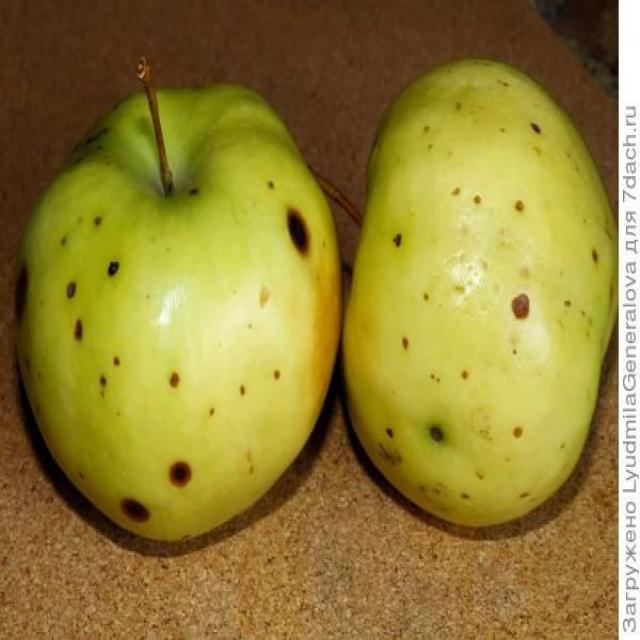Rotten: (36, 84, 326, 542), (346, 74, 608, 528)
